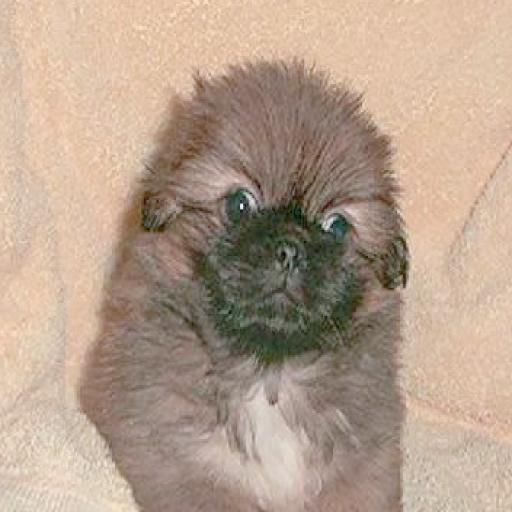dog_face: (150, 68, 410, 347)
